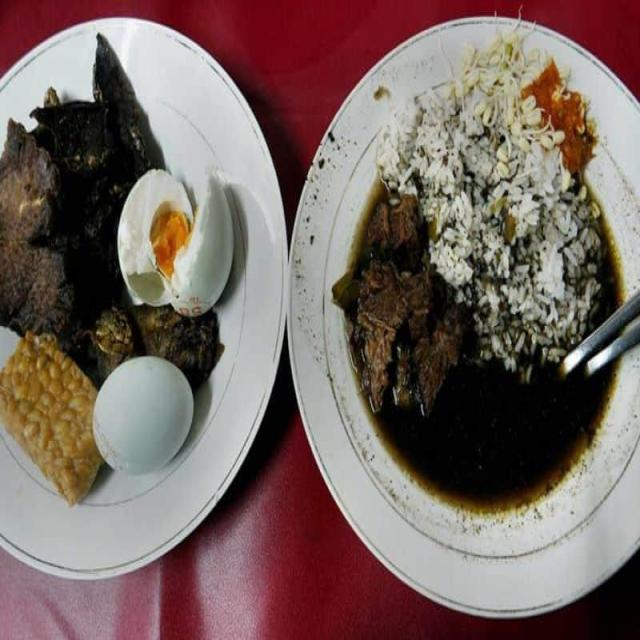Rawon: (331, 124, 633, 494)
